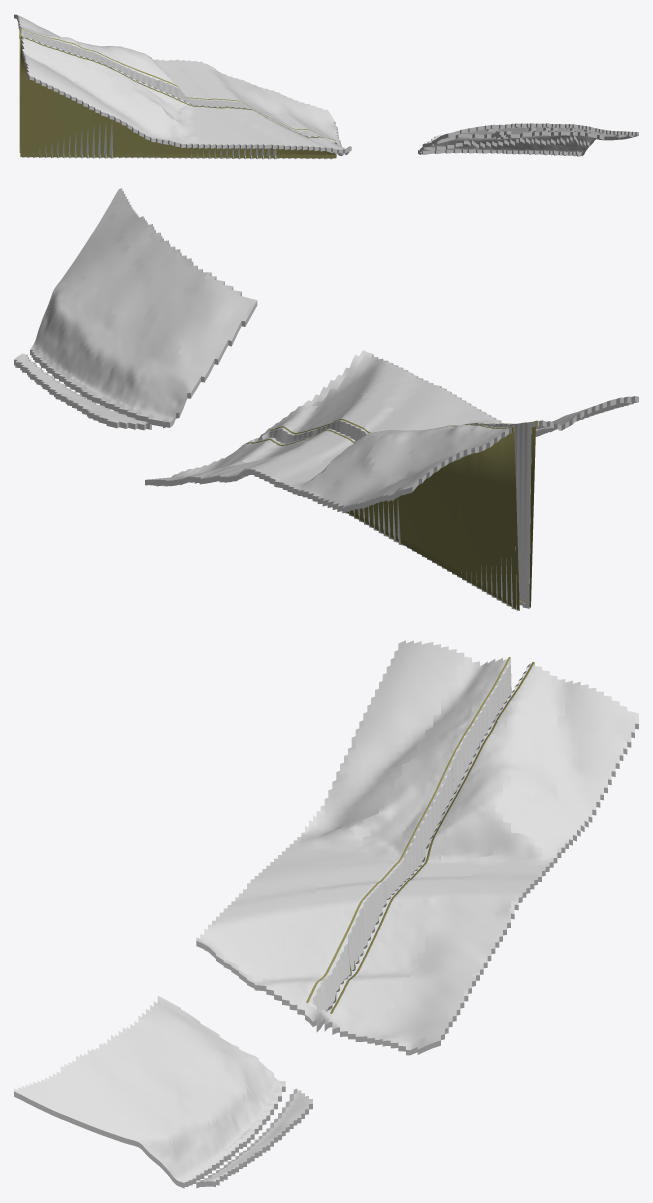
Rendered from conz_97.glb.
3 renders of one model, top to bottom at view 1: azimuth 30°, elevation 25°; view 2: azimuth 150°, elevation 25°; view 3: azimuth 270°, elevation 25°, orthographic. The views are drawn at different scales.
Parts seen in each view (by area): view 1: terrain97, verge97R, verge97L; view 2: terrain97, verge97L, verge97R; view 3: terrain97, verge97R, verge97L.
Part boxes in pixels (x1,y1,x2,y2): terrain97: (14, 14, 638, 159); verge97R: (20, 36, 336, 158); verge97L: (19, 28, 335, 152); terrain97: (14, 188, 638, 610); verge97L: (246, 424, 519, 610); verge97R: (270, 419, 537, 607); terrain97: (14, 640, 638, 1188); verge97R: (306, 657, 511, 1002); verge97L: (330, 662, 534, 1013).
Bounding box in the file's own units: 412 × 122 × 322.
